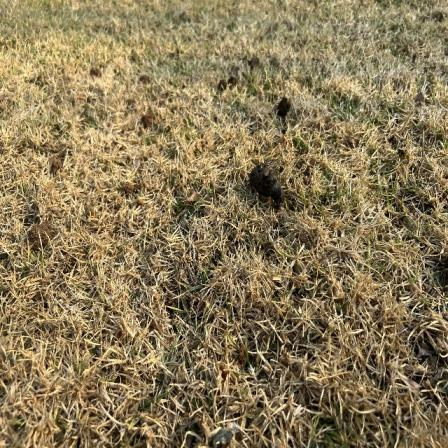dog-poop: (248, 159, 288, 210)
